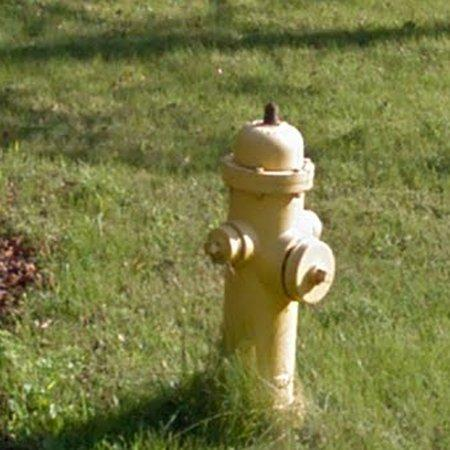a fire hydrant: (206, 103, 336, 409)
